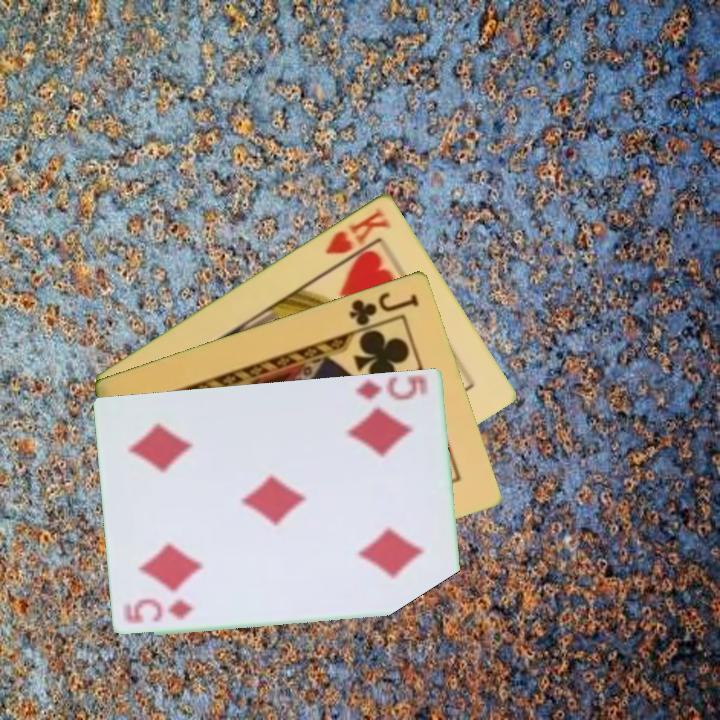5d: (352, 372, 432, 403), (122, 599, 197, 627)
Jc: (345, 287, 422, 328)
Kh: (322, 203, 393, 271)
